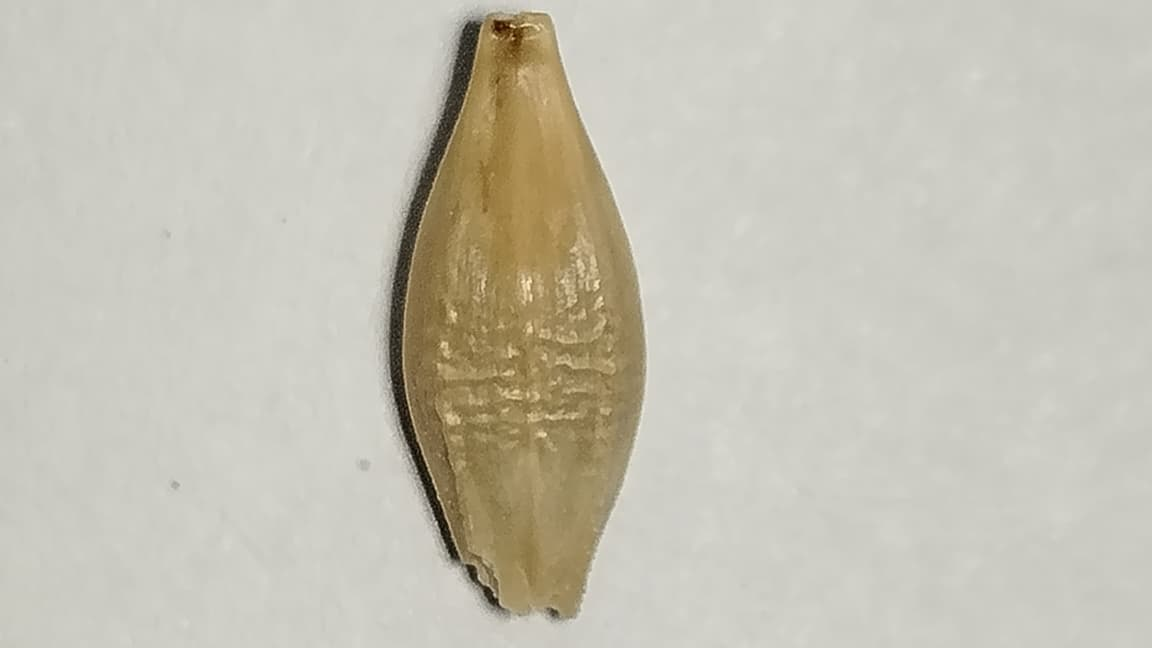healthy-70-60: (403, 15, 644, 616)
